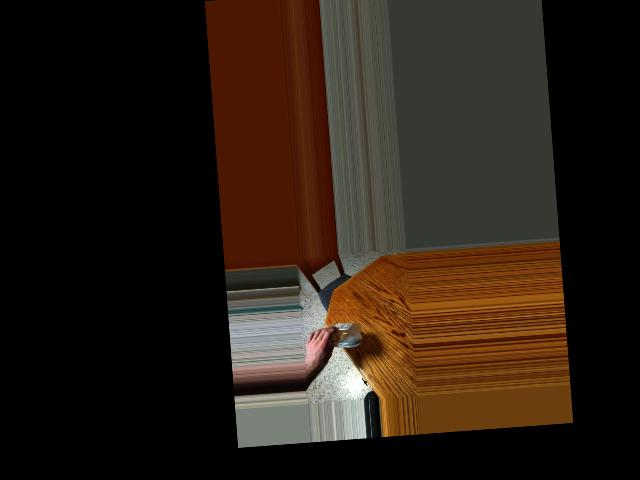cheese: (318, 314, 367, 359)
